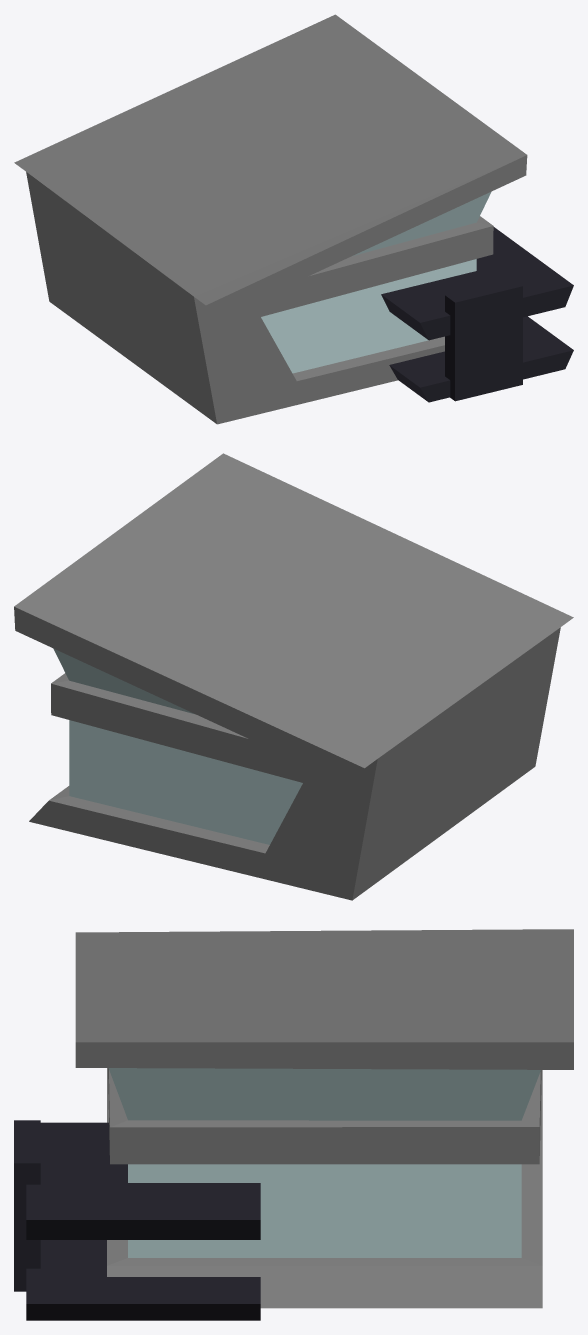
File: Headquarters.fbx
3 views of the same model, one above another, from view 1: azimuth 30°, elevation 25°; view 2: azimuth 150°, elevation 25°; view 3: azimuth 270°, elevation 25° (orthographic). The views are drawn at different scales.
Parts seen in each view (by area): view 1: Headquarters; view 2: Headquarters; view 3: Headquarters.
Part boxes in pixels (bbox=[...]): Headquarters: bbox=[14, 14, 573, 424]; Headquarters: bbox=[14, 453, 573, 900]; Headquarters: bbox=[14, 929, 573, 1320].
Bounding box in the file's own units: 292 × 164 × 312.
